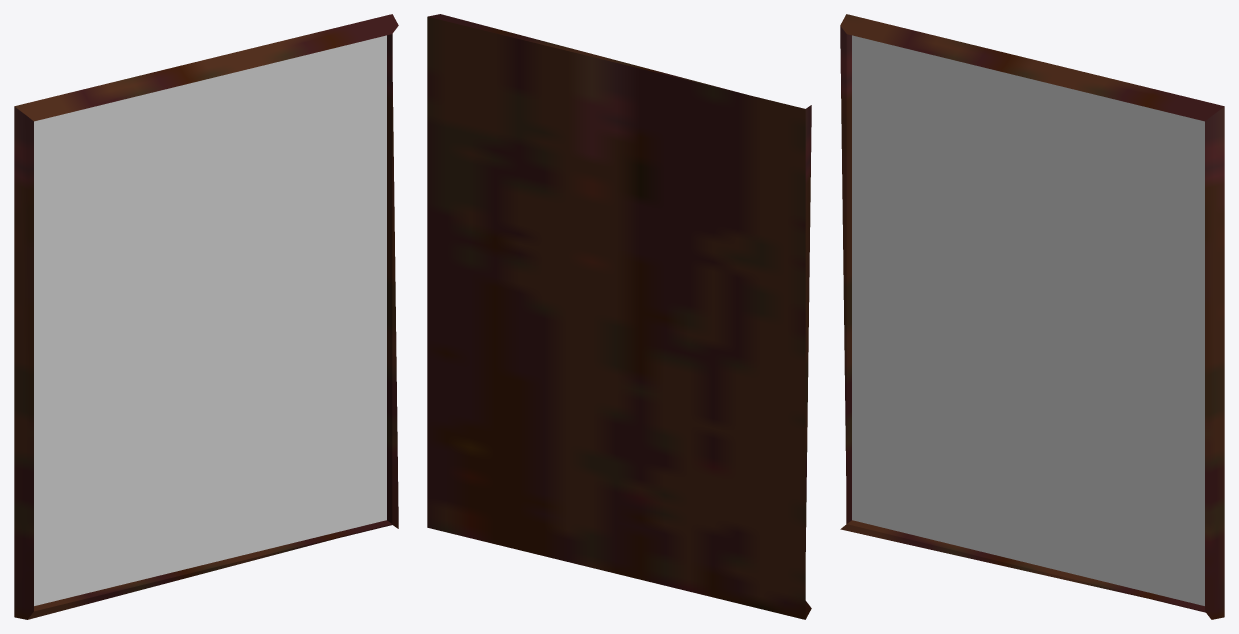
File: PictureFrameWall.fbx
3 renders of one model, left to right at view 1: azimuth 30°, elevation 25°; view 2: azimuth 150°, elevation 25°; view 3: azimuth 330°, elevation 25°, orthographic.
Visible parts, largest first — view 1: PictureFrameWall; view 2: PictureFrameWall; view 3: PictureFrameWall.
Part boxes in pixels (x1,y1,x2,y2): PictureFrameWall: (14,14,398,619); PictureFrameWall: (427,14,811,619); PictureFrameWall: (840,14,1224,619).
Bounding box in the file's own units: 192 × 247 × 8.52.
